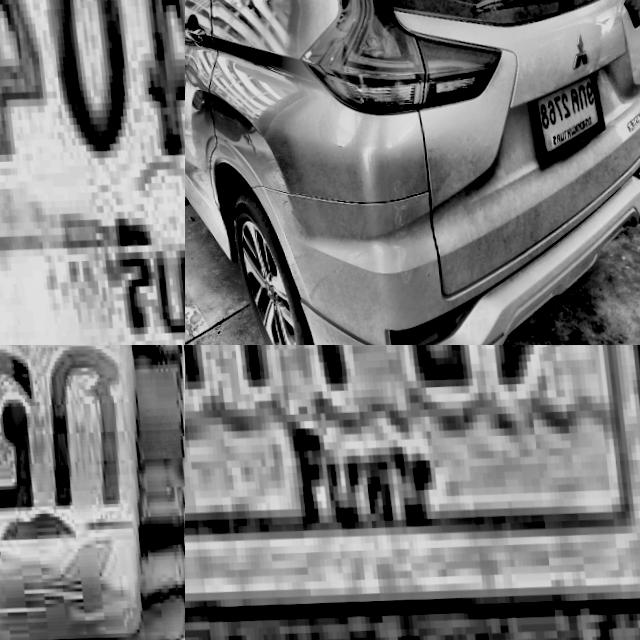license-plate: (185, 345, 640, 623), (0, 0, 185, 345), (0, 345, 185, 640), (521, 63, 605, 168)
